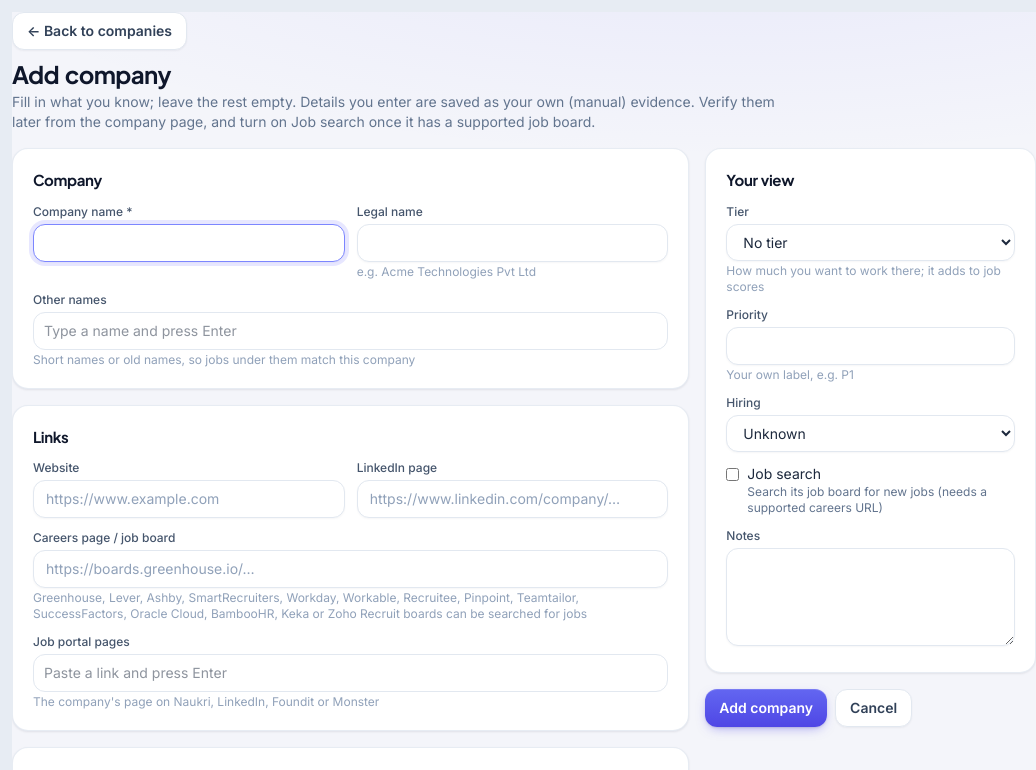
Test: add company page › checks the name and URLs before saving
This screenshot has width=1036, height=770.
In the field labelled "LinkedIn page": (513, 499) [357,480,668,518], type "https://www.linkedin.com/in/someone"
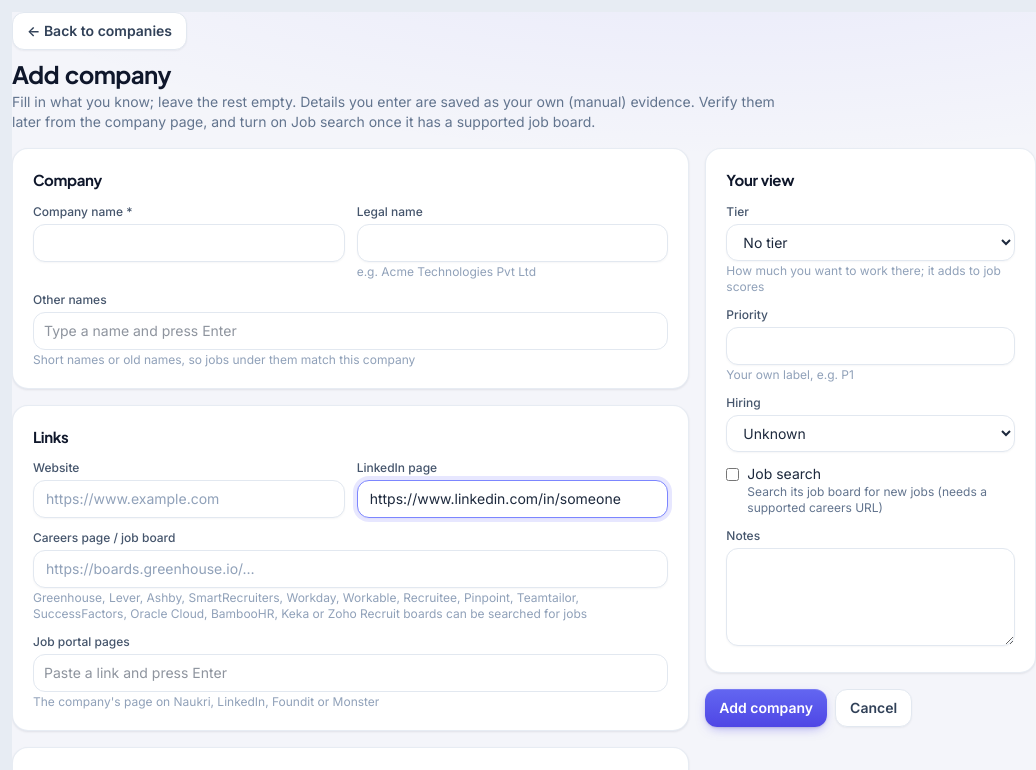
Click the button "Add company": (766, 708) [705,688,827,726]
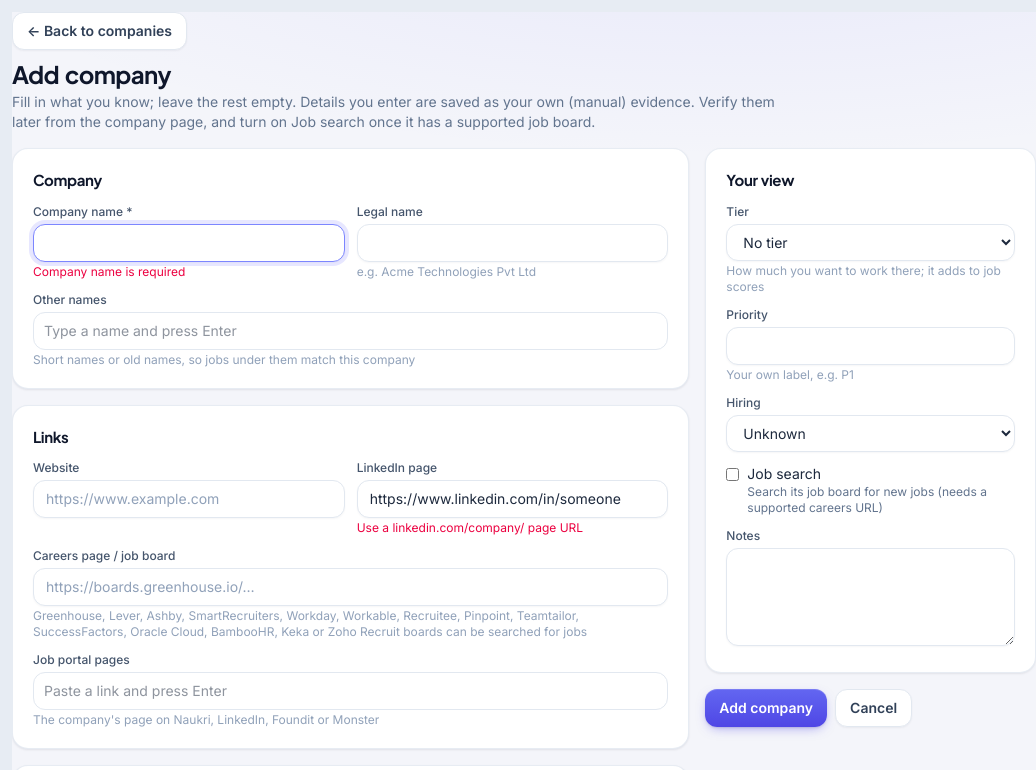
expect the text "Company name is required" is shown: met, box [33,264,185,278]
expect the text "Use a linkedin.com/company/ page URL" is shown: met, box [357,520,583,535]
